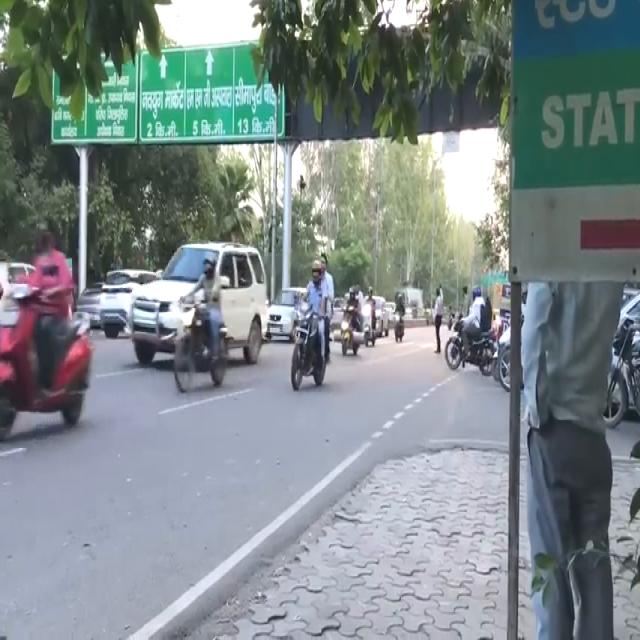MOTORCYCLE: (0, 287, 87, 429), (174, 296, 236, 399), (292, 305, 334, 392), (449, 315, 502, 378), (338, 304, 364, 354), (393, 309, 406, 342)
